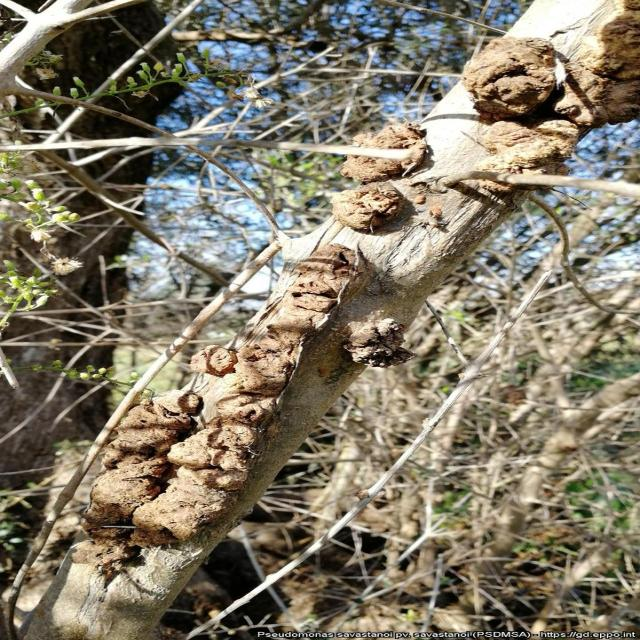Tuberculosis: (76, 243, 356, 582), (461, 0, 639, 173), (341, 122, 426, 181), (344, 318, 414, 368), (332, 182, 401, 230)
